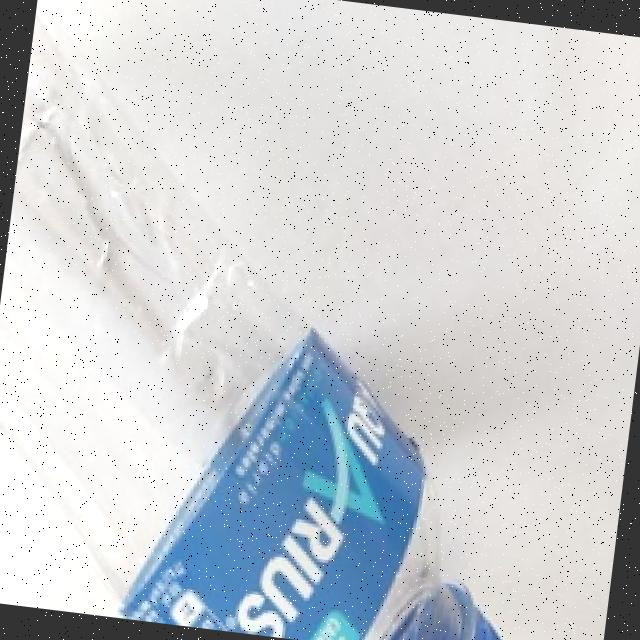bottle: (0, 45, 582, 640)
label: (153, 347, 456, 640)
